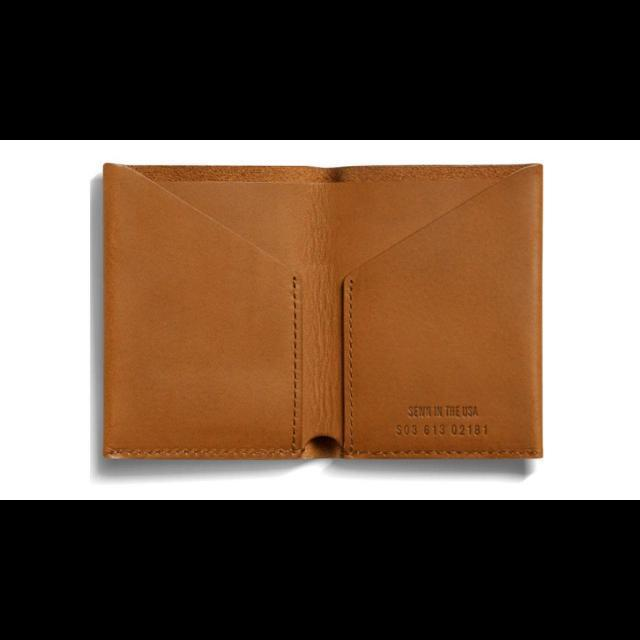wallet: (99, 160, 547, 464)
